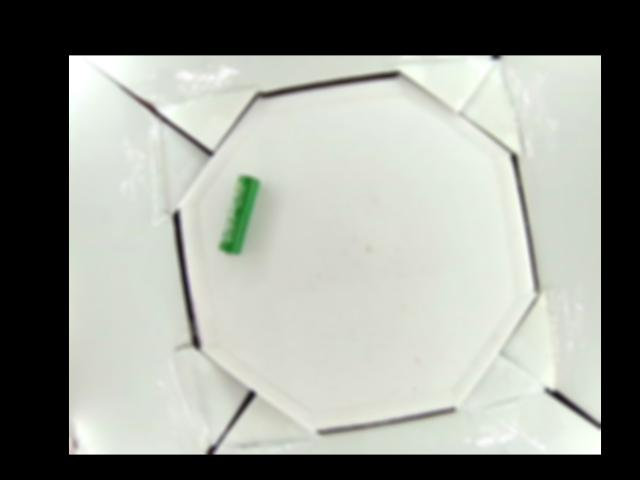Battery: (217, 174, 260, 255)
